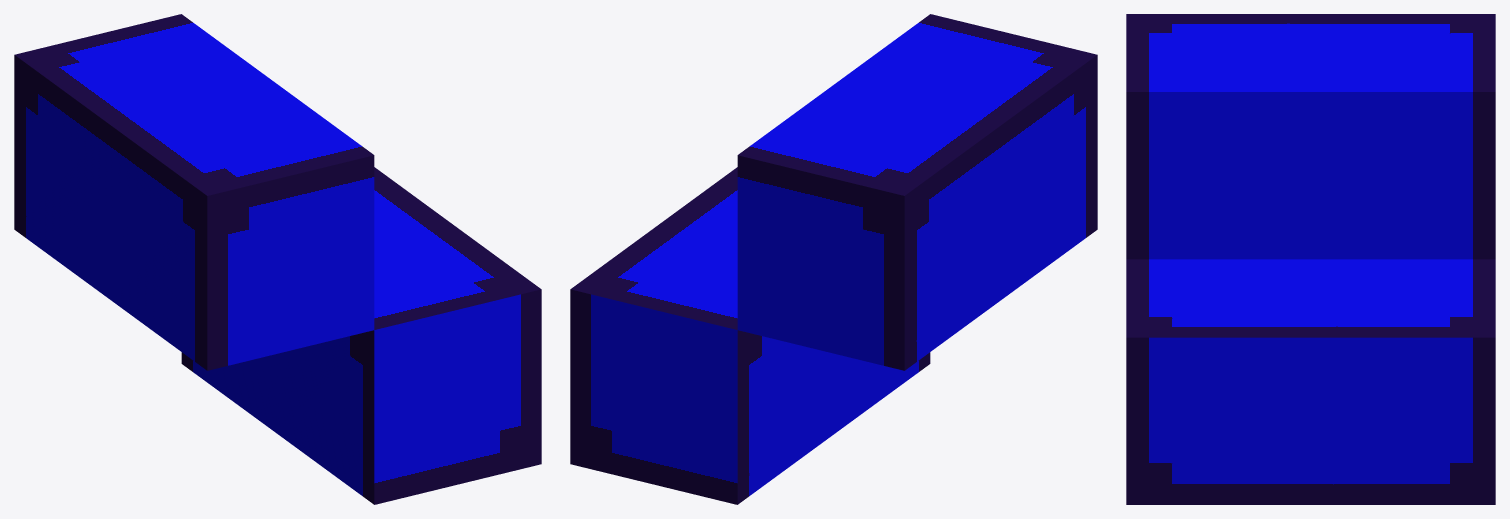
File: 9_blue.obj
The picture shows the model from 3 angles, left to right: view 1: azimuth 30°, elevation 25°; view 2: azimuth 150°, elevation 25°; view 3: azimuth 270°, elevation 25°; orthographic projection. The views are drawn at different scales.
Parts seen in each view (by area): view 1: 9_blue; view 2: 9_blue; view 3: 9_blue.
Boxes of the visible parts, <box> form: 9_blue: <box>14,14,541,504</box>; 9_blue: <box>570,14,1097,504</box>; 9_blue: <box>1126,14,1495,504</box>.
Size of the model in its own units: 1 by 1 by 1.
Materials: 1 (1 with a texture image).
